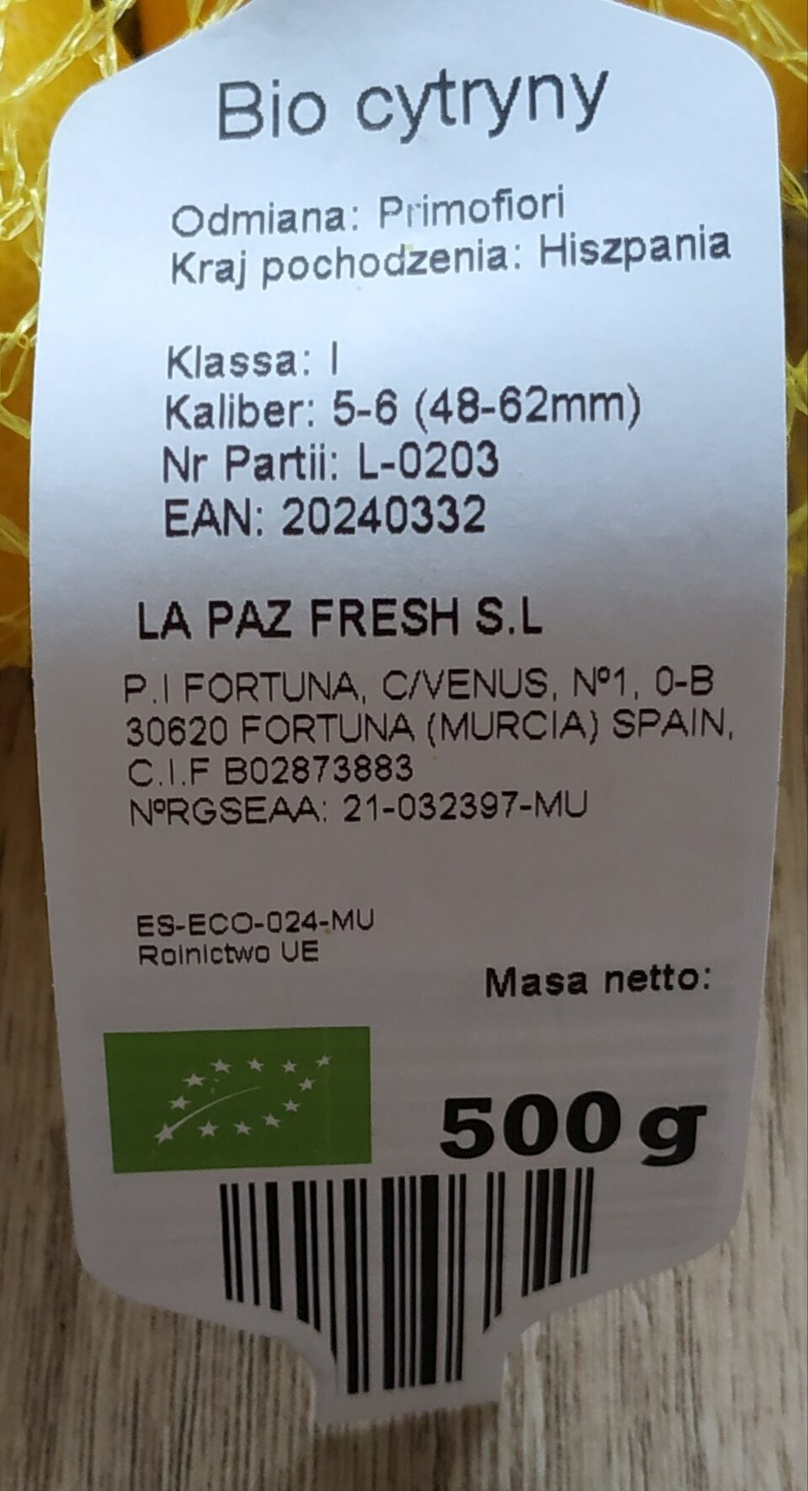Bio Zitronen: (40, 75, 768, 1416)
